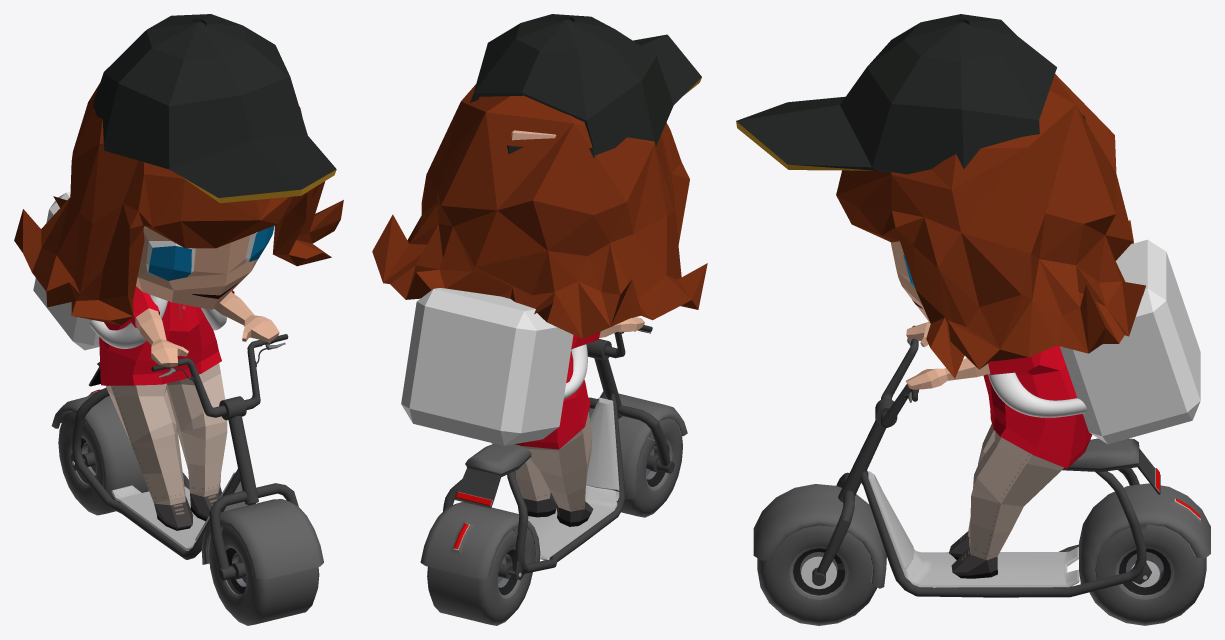
The model's file is courieronscooterwithbag.fbx.
3 renders of one model, left to right at view 1: azimuth 30°, elevation 25°; view 2: azimuth 150°, elevation 25°; view 3: azimuth 270°, elevation 25°, orthographic. The views are drawn at different scales.
Visible parts, largest first — view 1: baseball_cap, hair06, polySurface20.001, clothing, body, Cube, NurbsPath; view 2: hair06, polySurface20.001, Cube, baseball_cap, clothing, body, NurbsPath; view 3: hair06, polySurface20.001, baseball_cap, Cube, clothing, body, NurbsPath.001.
Boxes of the visible parts, x1,y1,x2,y2 form: baseball_cap: [93, 14, 336, 203]; hair06: [14, 83, 343, 325]; polySurface20.001: [51, 334, 323, 625]; clothing: [99, 286, 234, 530]; body: [135, 225, 279, 367]; Cube: [33, 191, 99, 350]; NurbsPath: [89, 294, 167, 348]; hair06: [372, 84, 707, 338]; polySurface20.001: [420, 325, 687, 625]; Cube: [401, 288, 573, 445]; baseball_cap: [470, 14, 701, 158]; clothing: [491, 331, 600, 526]; body: [511, 130, 644, 337]; NurbsPath: [563, 344, 587, 399]; hair06: [836, 74, 1145, 378]; polySurface20.001: [753, 325, 1210, 625]; baseball_cap: [736, 14, 1085, 174]; Cube: [1060, 239, 1200, 444]; clothing: [949, 345, 1092, 578]; body: [890, 241, 990, 389]; NurbsPath.001: [988, 372, 1086, 417].
Bounding box in the file's own units: 110 × 198 × 145.
